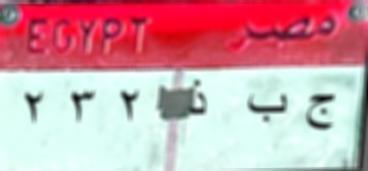2: (20, 85, 48, 130), (118, 84, 144, 129)
3: (66, 86, 96, 134)
baa: (244, 84, 292, 140)
jeem: (304, 91, 342, 139)
zaal: (187, 77, 212, 125)
